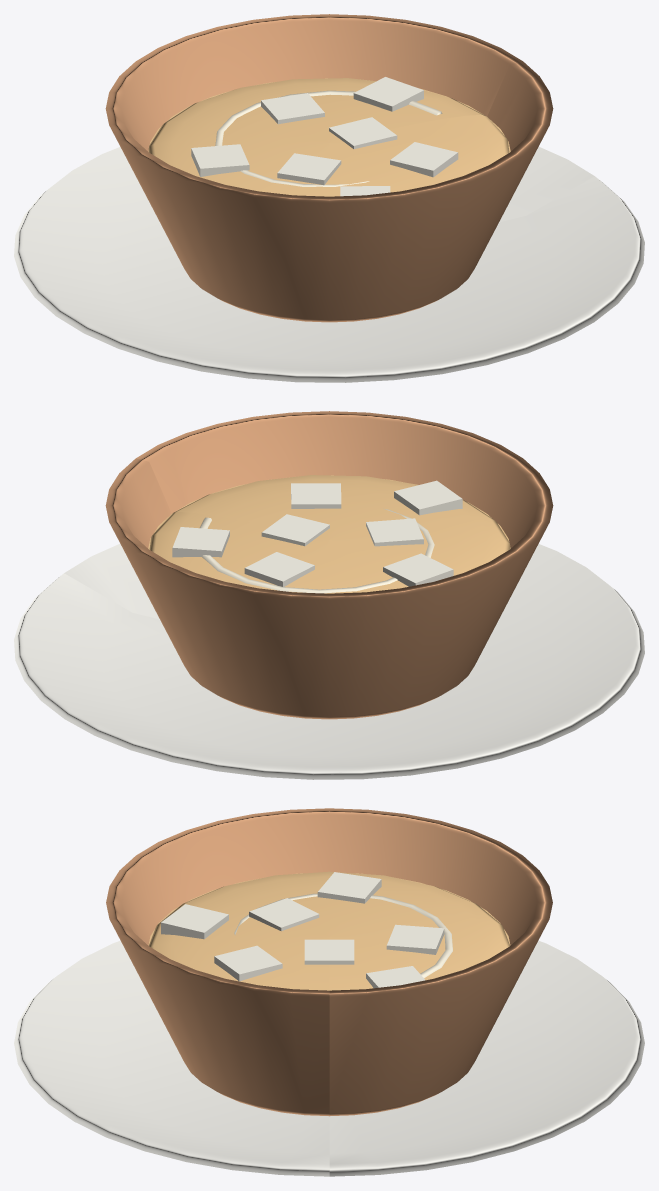
Rendered from shahi-paneer.glb.
The picture shows the model from 3 angles, top to bottom: view 1: azimuth 30°, elevation 25°; view 2: azimuth 150°, elevation 25°; view 3: azimuth 270°, elevation 25°; orthographic projection.
Visible parts, largest first — view 1: shahi-paneer; view 2: shahi-paneer; view 3: shahi-paneer.
Boxes of the visible parts, box(x1,y1,x2,y2) form: shahi-paneer: box(14, 14, 644, 382); shahi-paneer: box(14, 411, 644, 779); shahi-paneer: box(14, 808, 644, 1176).
Bounding box in the file's own units: 0.24 × 0.071 × 0.24.
